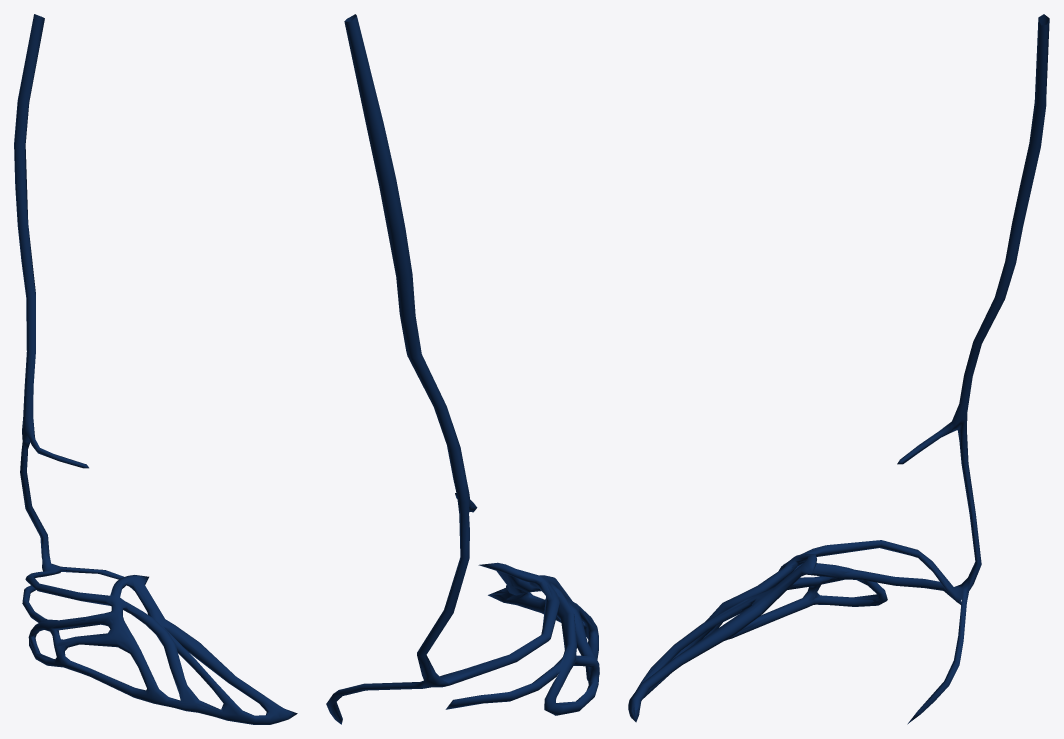
Rendered from LB  vena digitales medialis.fbx.
The picture shows the model from 3 angles, left to right: view 1: azimuth 30°, elevation 25°; view 2: azimuth 150°, elevation 25°; view 3: azimuth 270°, elevation 25°; orthographic projection. The views are drawn at different scales.
Parts seen in each view (by area): view 1: LB vena digitales medialis, LB vena digitales medialis low; view 2: LB vena digitales medialis, LB vena digitales medialis low; view 3: LB vena digitales medialis, LB vena digitales medialis low.
Boxes of the visible parts, <box> form: LB vena digitales medialis: <box>14,14,297,724</box>; LB vena digitales medialis low: <box>14,28,297,723</box>; LB vena digitales medialis: <box>326,14,599,724</box>; LB vena digitales medialis low: <box>332,42,598,722</box>; LB vena digitales medialis: <box>628,14,1049,724</box>; LB vena digitales medialis low: <box>628,34,1046,722</box>.
Bounding box in the file's own units: 3.36 × 11.41 × 6.5.
